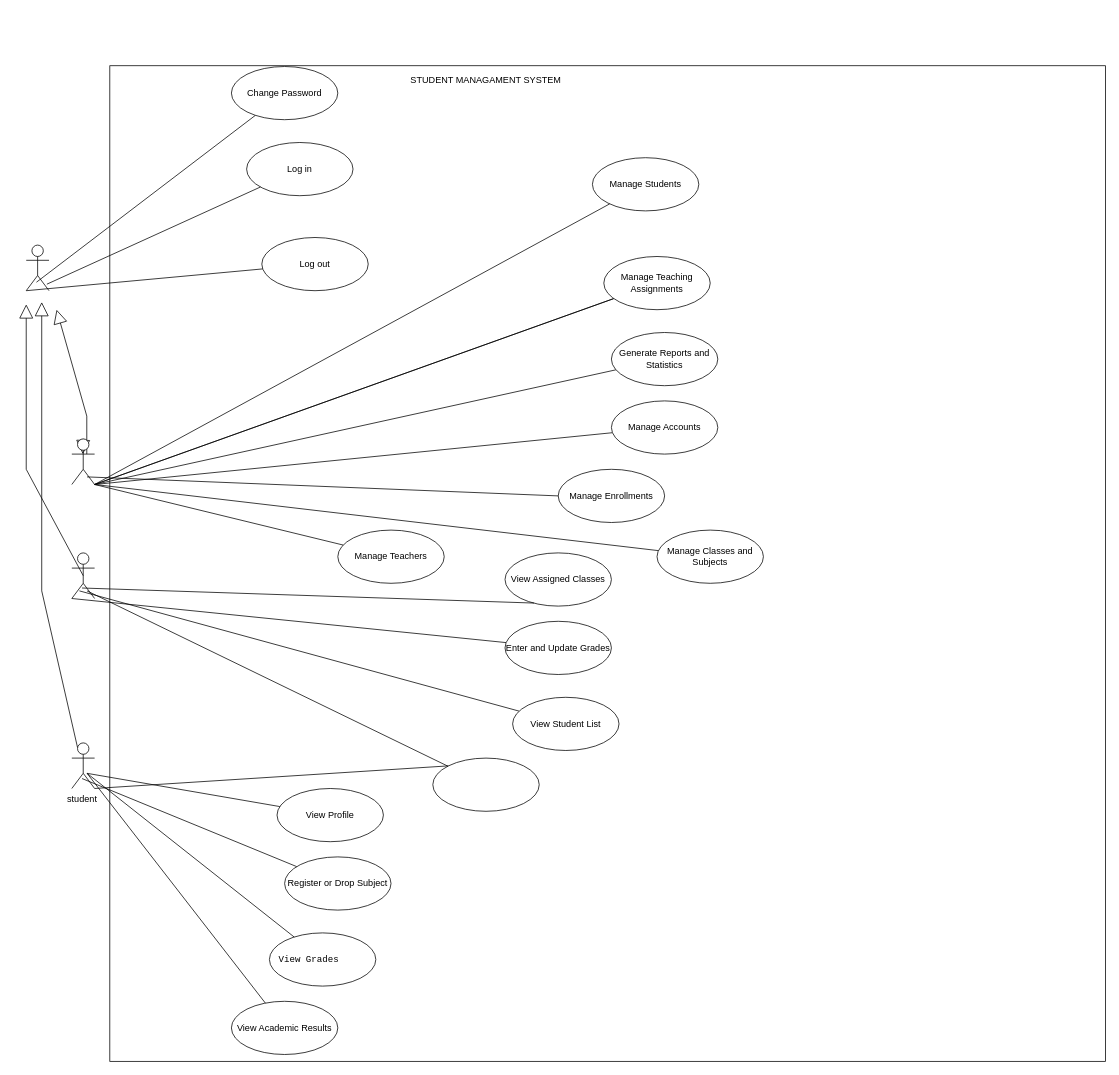
The diagram is 1119 pixels wide and 1075 high, and some of its shapes have lost their labels. The shapes that lost their labels are listed below. From the top down, each one's centre as x and y in pixels, then its label:
the point at 37,267: user
the point at 83,461: admin
the point at 83,575: teacher
the point at 485,784: View Schedule
